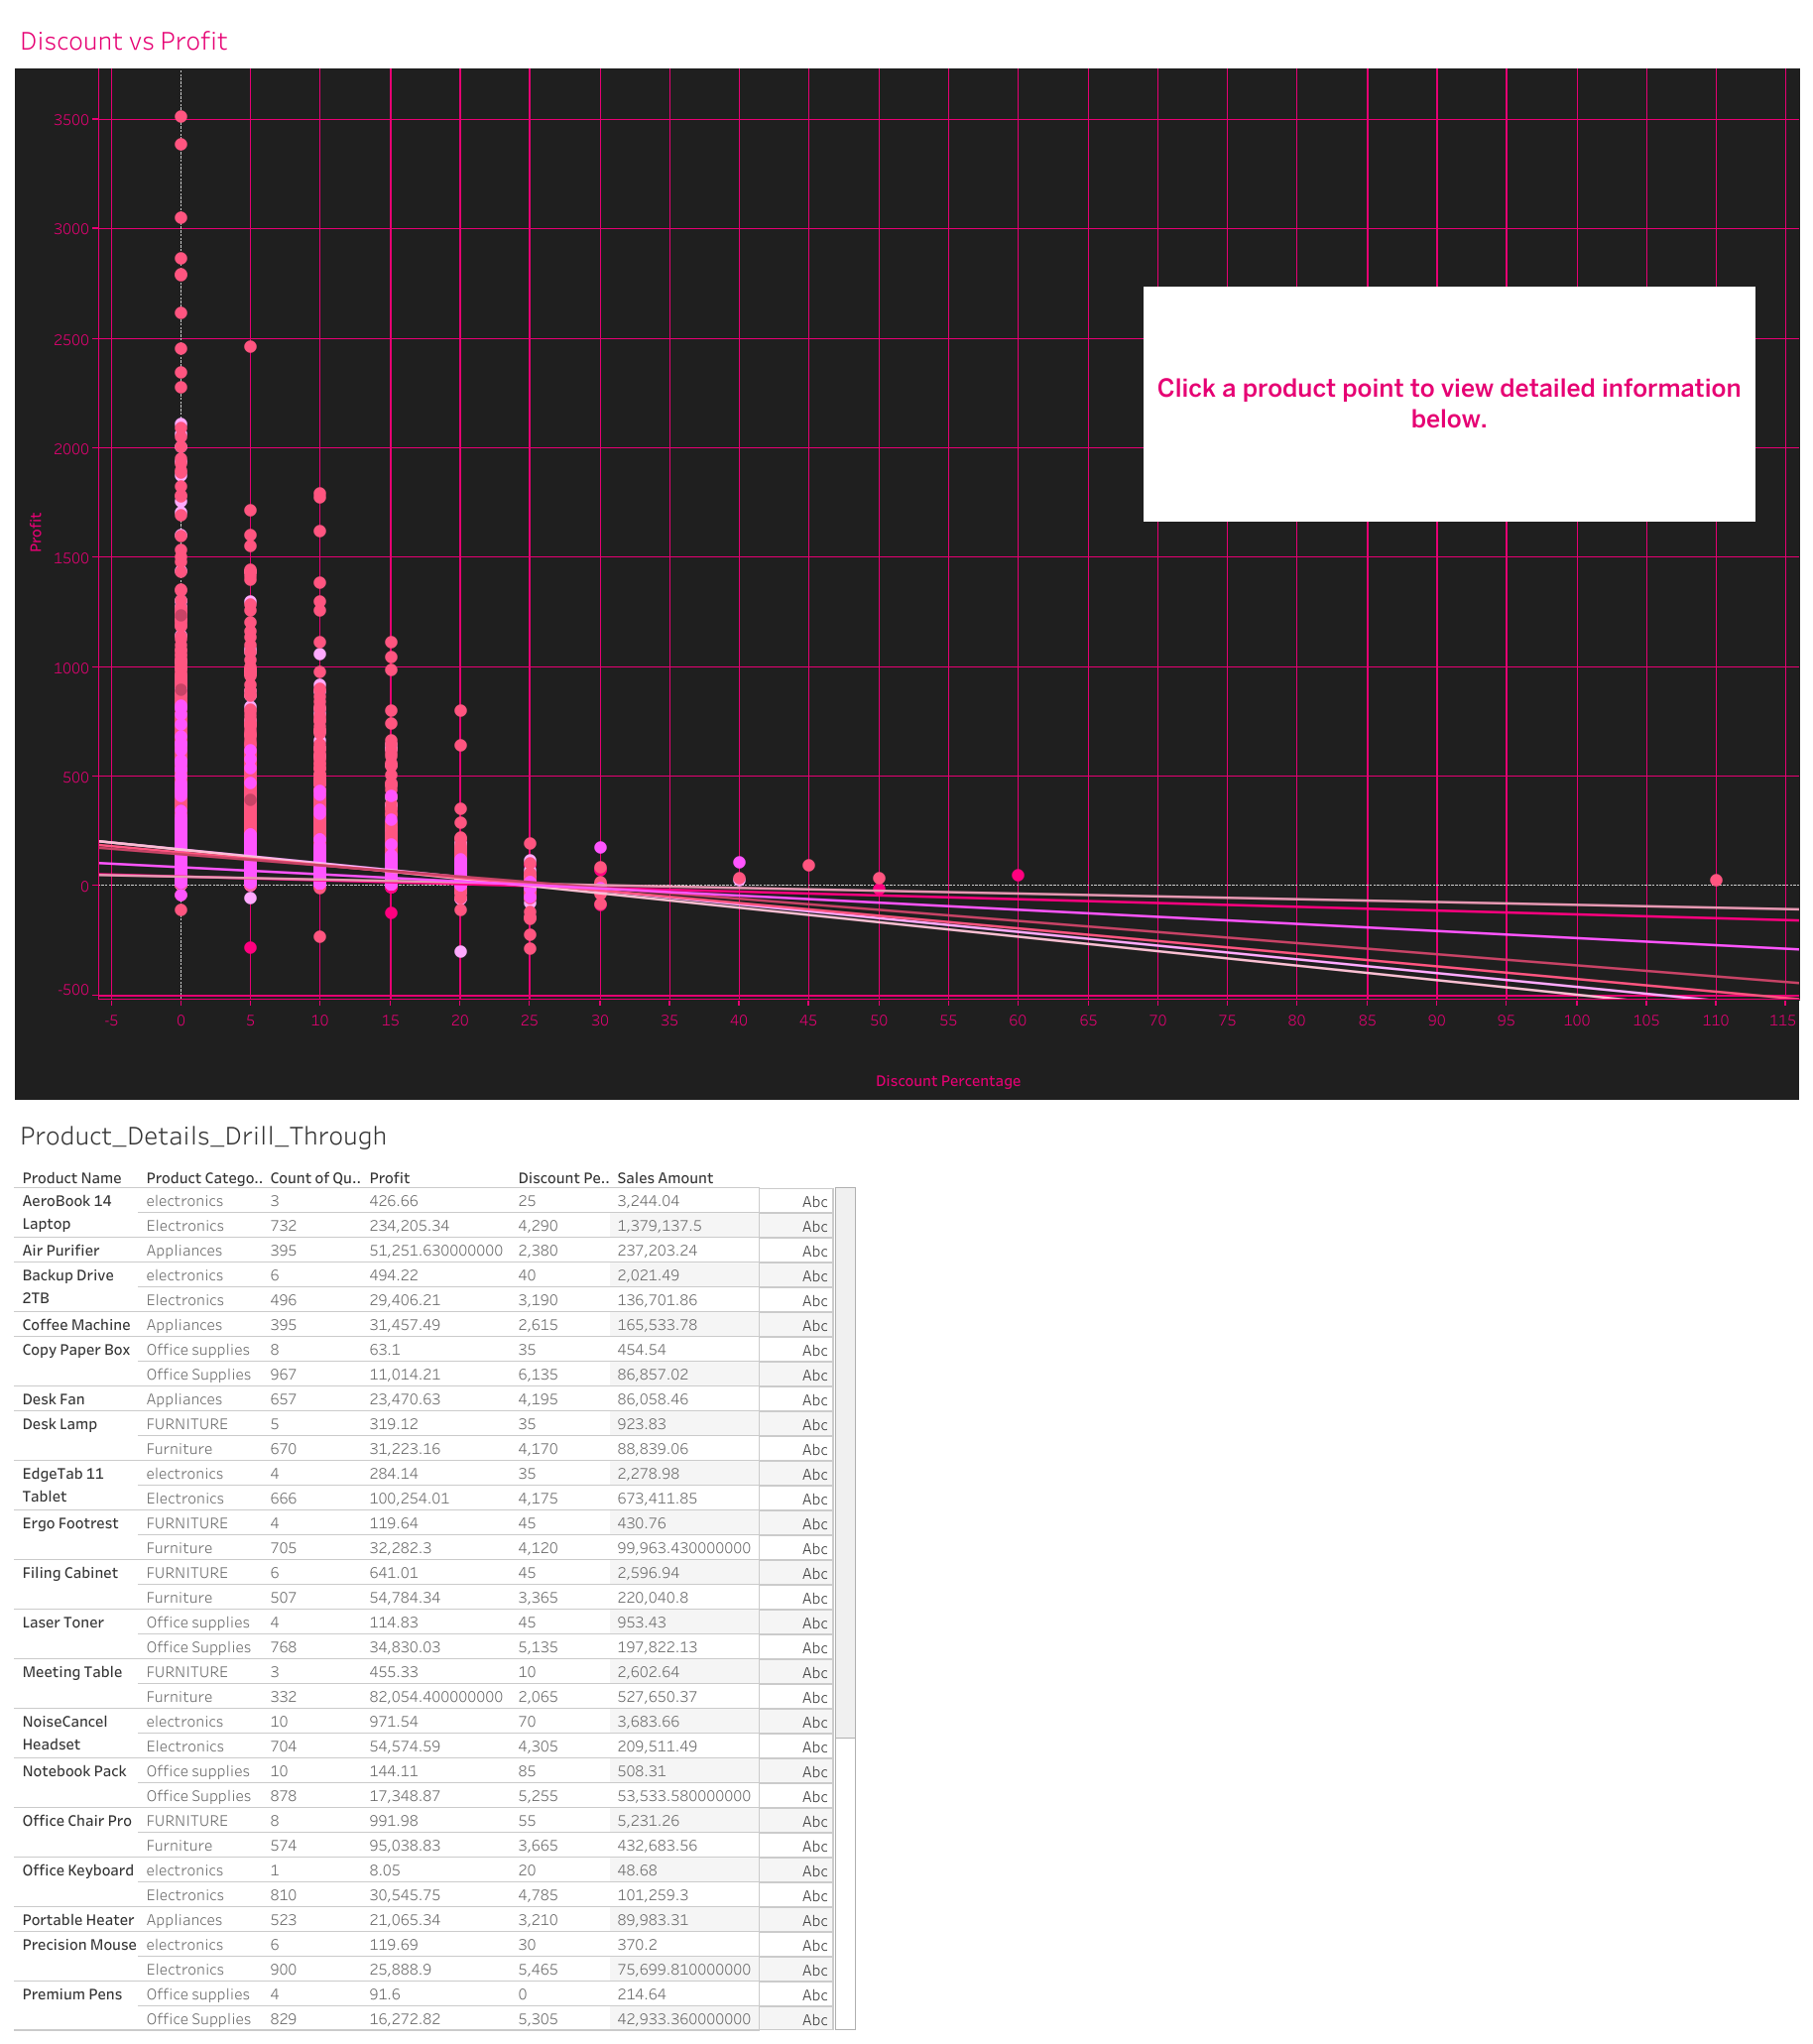

The page's visual inventory and layout, read from the dashboard file:
{"tool":"tableau","page":{"name":"Product_information_dashboard","canvas":[1000,1000],"units":"permille","ordinal":0},"visuals":[{"type":"worksheet","title":"Discount vs Profit","mark":"Circle","rows":["Profit"],"cols":["Discount_Percentage"],"box":[4.8,9.4,990.3,530]},{"type":"text","box":[628.7,150.8,338.2,114.9]},{"type":"worksheet","title":"Product_Details_Drill_Through","mark":"Automatic","rows":["Product_Name","Product_Category","Quantity","Profit","Discount_Percentage","Sales_Amount"],"box":[4.8,539.4,990.3,451.2]}]}

Visuals, with their boxes on the dashboard's canvas, which has no fixed pixel size, in thousandths of its width and height (x1, y1, x2, y2). These are canvas units, not pixel positions in the 1813x2044 screenshot, which may show the page scaled, cropped or inside an application window:
"Discount vs Profit" worksheet (Circle marks): <region>5, 9, 995, 539</region>
text: <region>629, 151, 967, 266</region>
"Product_Details_Drill_Through" worksheet: <region>5, 539, 995, 991</region>
